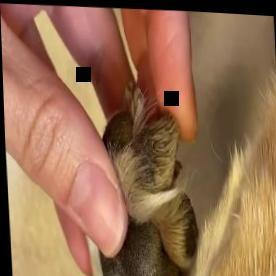keratosis: (103, 92, 187, 196)
